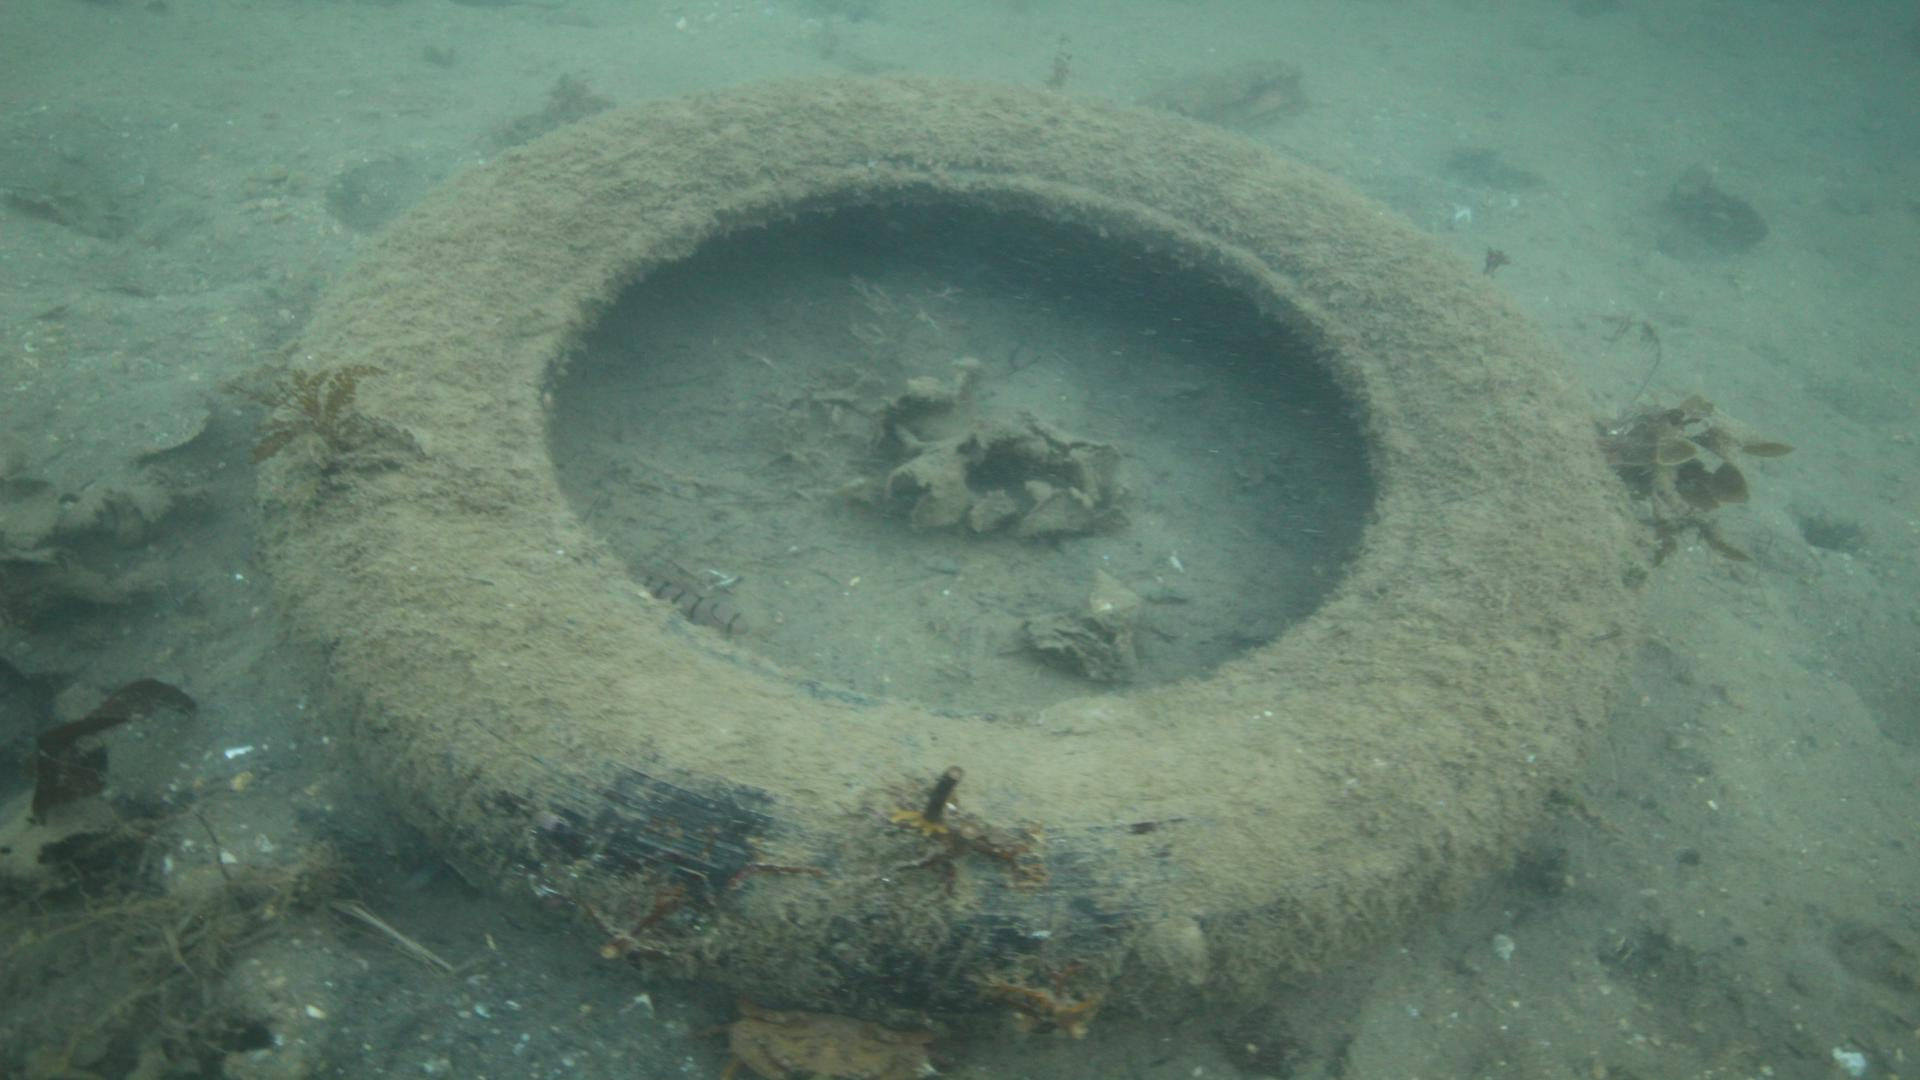tire: (258, 76, 1640, 1031)
